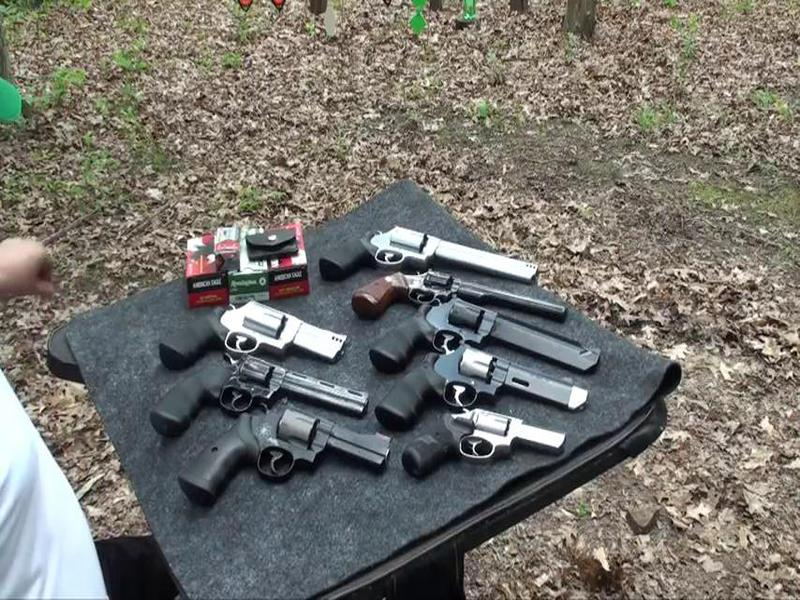Revolver: (167, 402, 403, 510), (359, 292, 615, 370), (323, 204, 552, 287), (367, 339, 584, 424), (333, 263, 594, 322), (127, 367, 373, 428), (139, 297, 355, 364), (398, 406, 576, 479)
